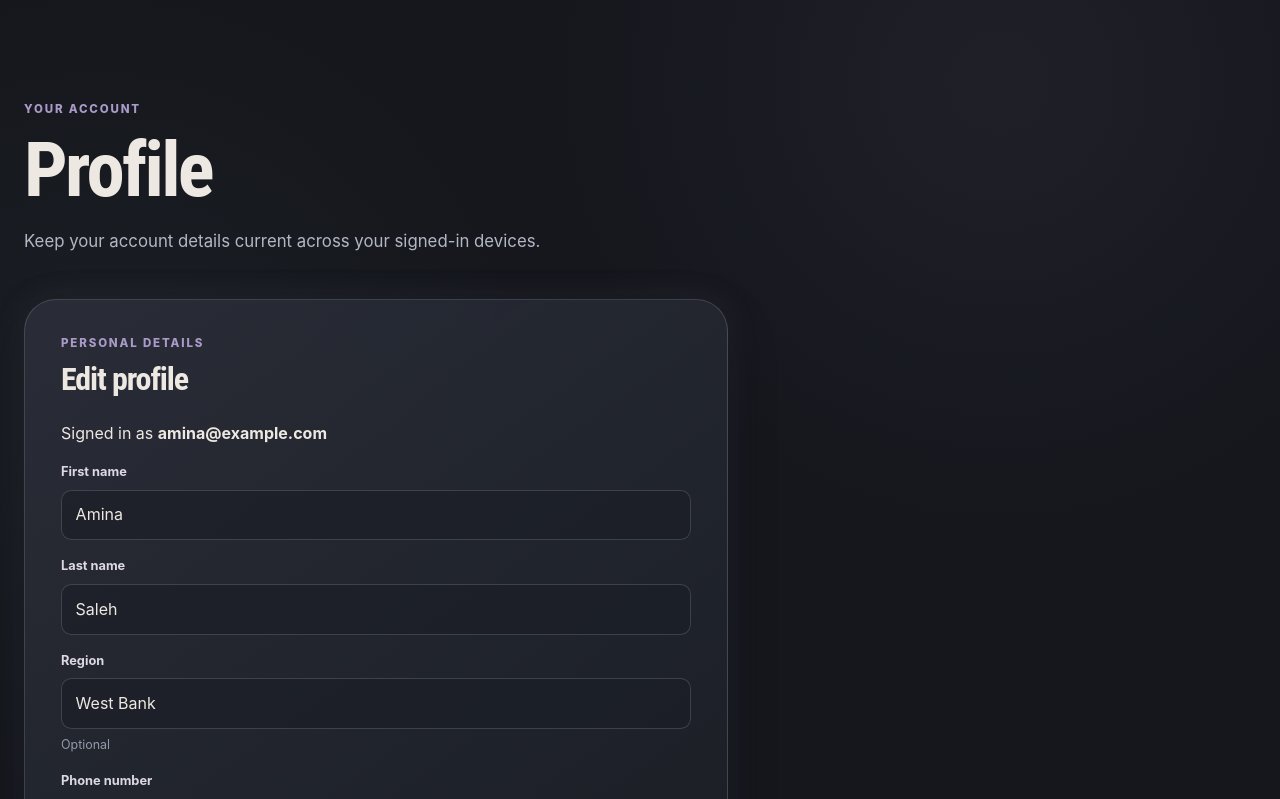
ProfilePage › submits trimmed profile values and announces success
The image size is (1280, 799).
Replace the text in the field labelled "Region" with "  Ramallah  " at (376, 704), box [61, 678, 691, 729]
(page scrolled)
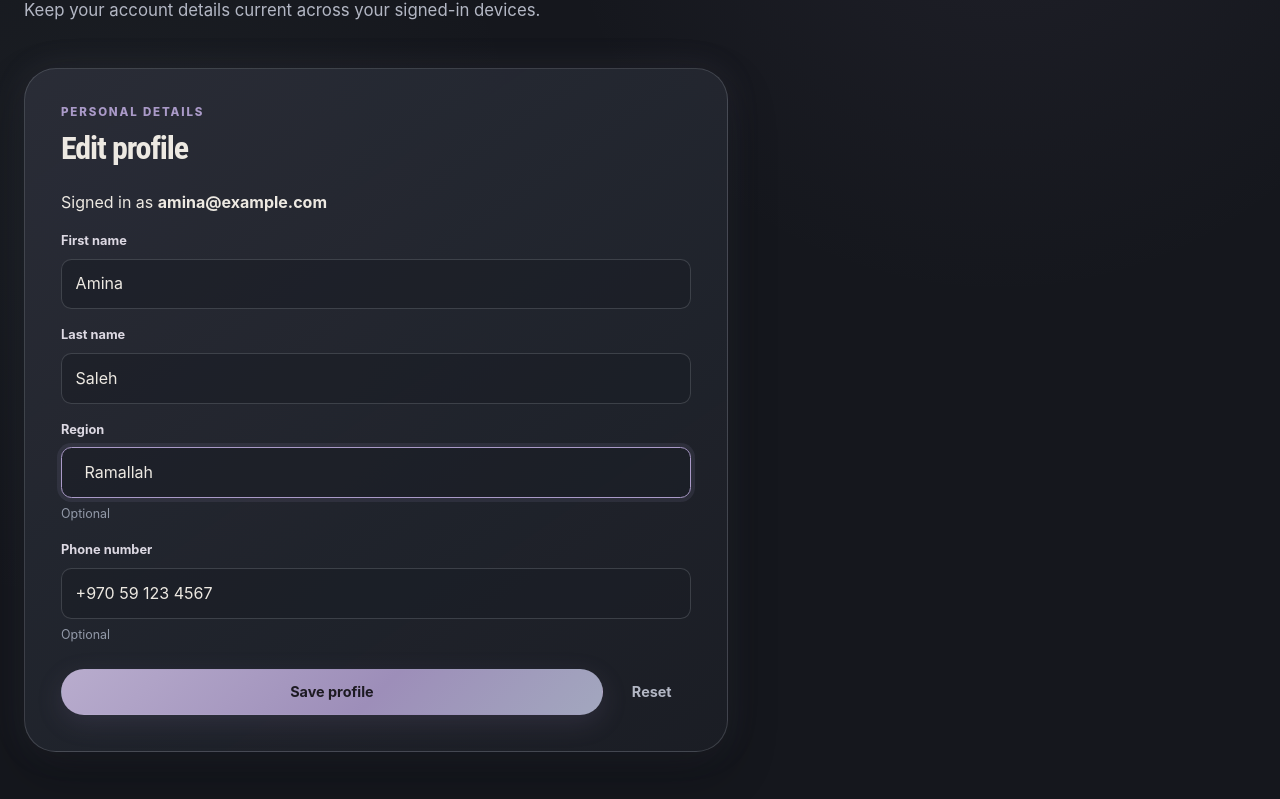
Click the button "Save profile" at (332, 692), box [61, 669, 603, 715]
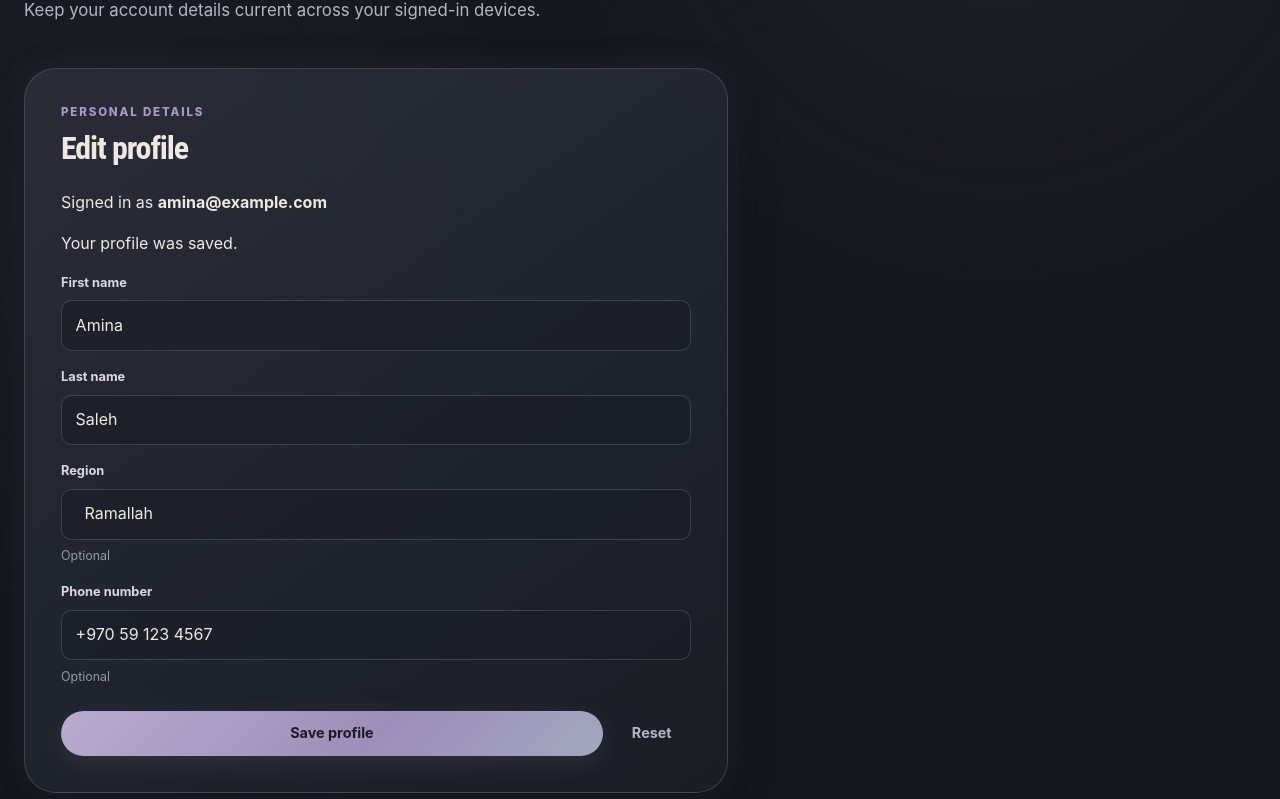
Check: the text "Your profile was saved." is shown, box [61, 233, 238, 253]
